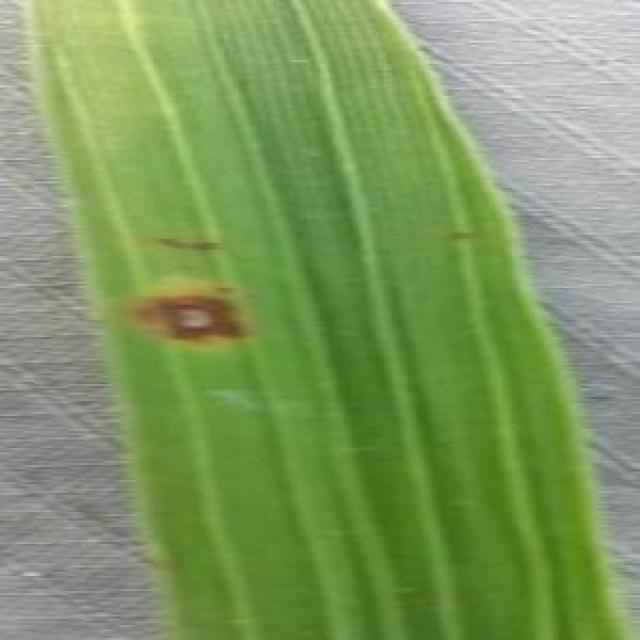brownspots: (132, 288, 245, 342), (158, 232, 220, 252)
